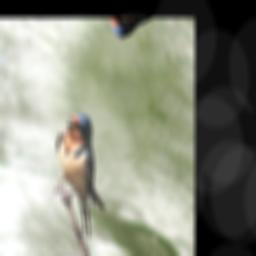Swallow: (30, 102, 128, 240)
